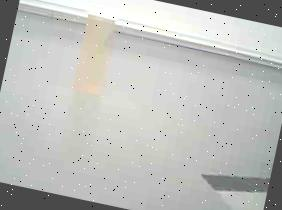Bottle A: (63, 2, 128, 109)
